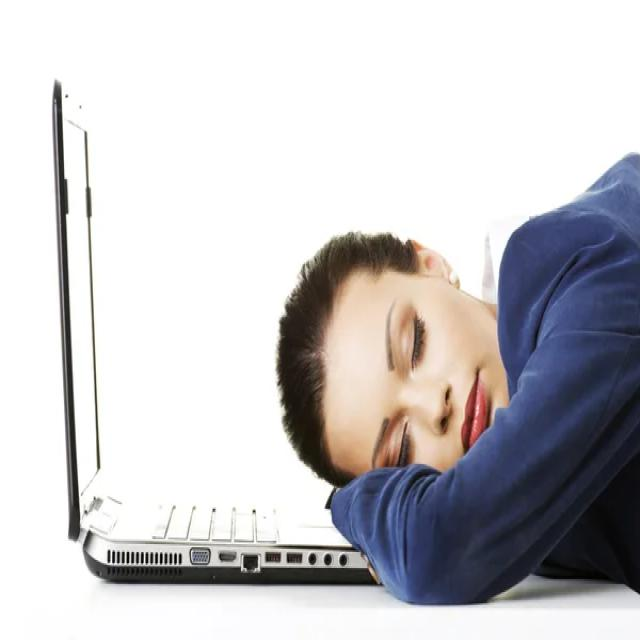Sleepy: (323, 271, 506, 476)
